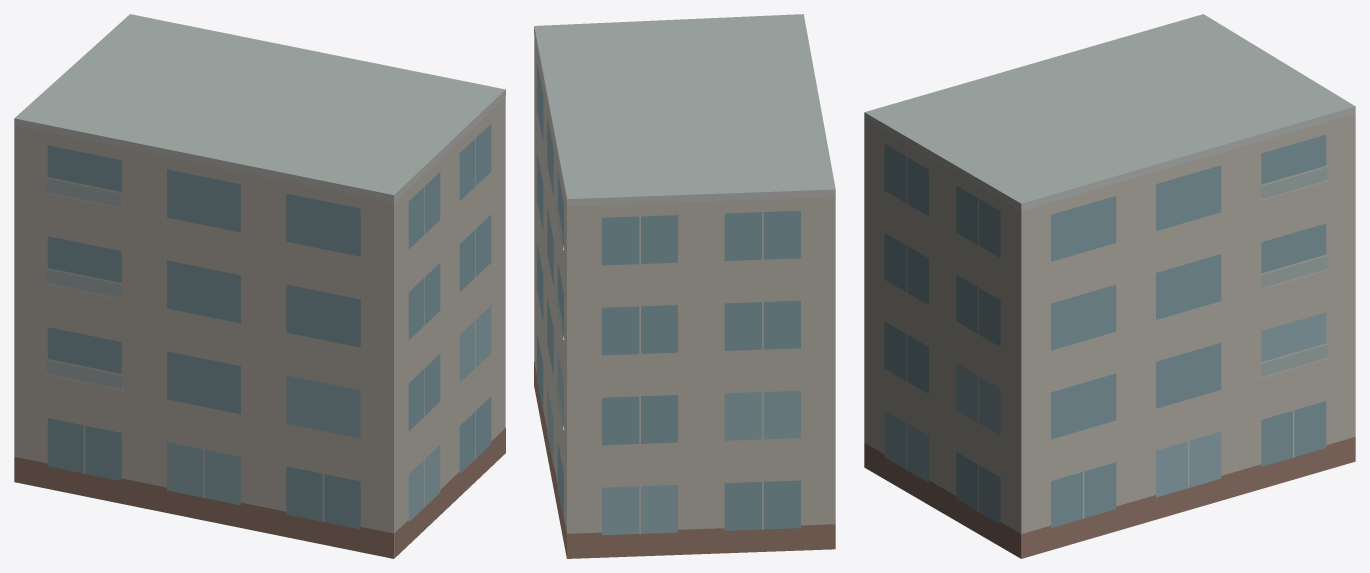
Rendered from survey-upis-32814809.glb.
3 renders of one model, left to right at view 1: azimuth 30°, elevation 25°; view 2: azimuth 150°, elevation 25°; view 3: azimuth 270°, elevation 25°, orthographic. The views are drawn at different scales.
Visible parts, largest first — view 1: survey-upis-32814809.tmp; view 2: survey-upis-32814809.tmp; view 3: survey-upis-32814809.tmp.
Part boxes in pixels (left/top/right/bottom): survey-upis-32814809.tmp: left=14, top=14, right=505, bottom=558; survey-upis-32814809.tmp: left=534, top=14, right=835, bottom=558; survey-upis-32814809.tmp: left=864, top=14, right=1355, bottom=558.
Size of the model in its own units: 13.64 by 11.9 by 14.93.
